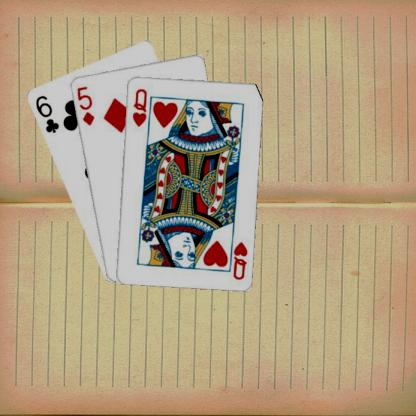5D: (74, 84, 95, 126)
6C: (32, 92, 60, 134)
QH: (226, 233, 248, 281), (130, 86, 147, 127)
